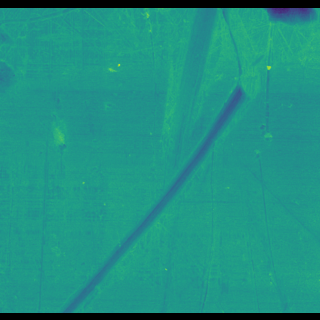Loch: (35, 61, 268, 305), (0, 15, 320, 85), (154, 14, 230, 174), (252, 149, 295, 308), (40, 114, 75, 158)
